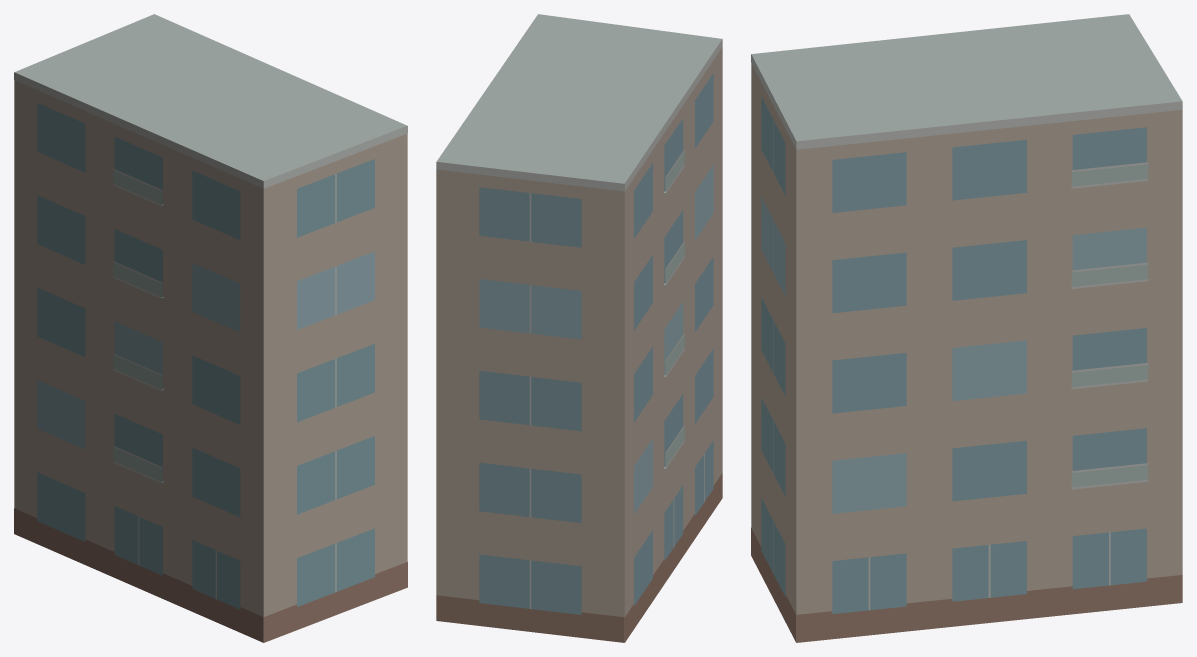
File: survey-upis-32592916.glb
3 views of the same model, side by side, from view 1: azimuth 30°, elevation 25°; view 2: azimuth 150°, elevation 25°; view 3: azimuth 270°, elevation 25° (orthographic). The views are drawn at different scales.
Parts seen in each view (by area): view 1: survey-upis-32592916.tmp; view 2: survey-upis-32592916.tmp; view 3: survey-upis-32592916.tmp.
Part boxes in pixels (left/top/right/bottom): survey-upis-32592916.tmp: left=14, top=14, right=407, bottom=642; survey-upis-32592916.tmp: left=436, top=14, right=722, bottom=642; survey-upis-32592916.tmp: left=751, top=14, right=1182, bottom=642.
Size of the model in its own units: 7.93 by 14.55 by 11.36.
